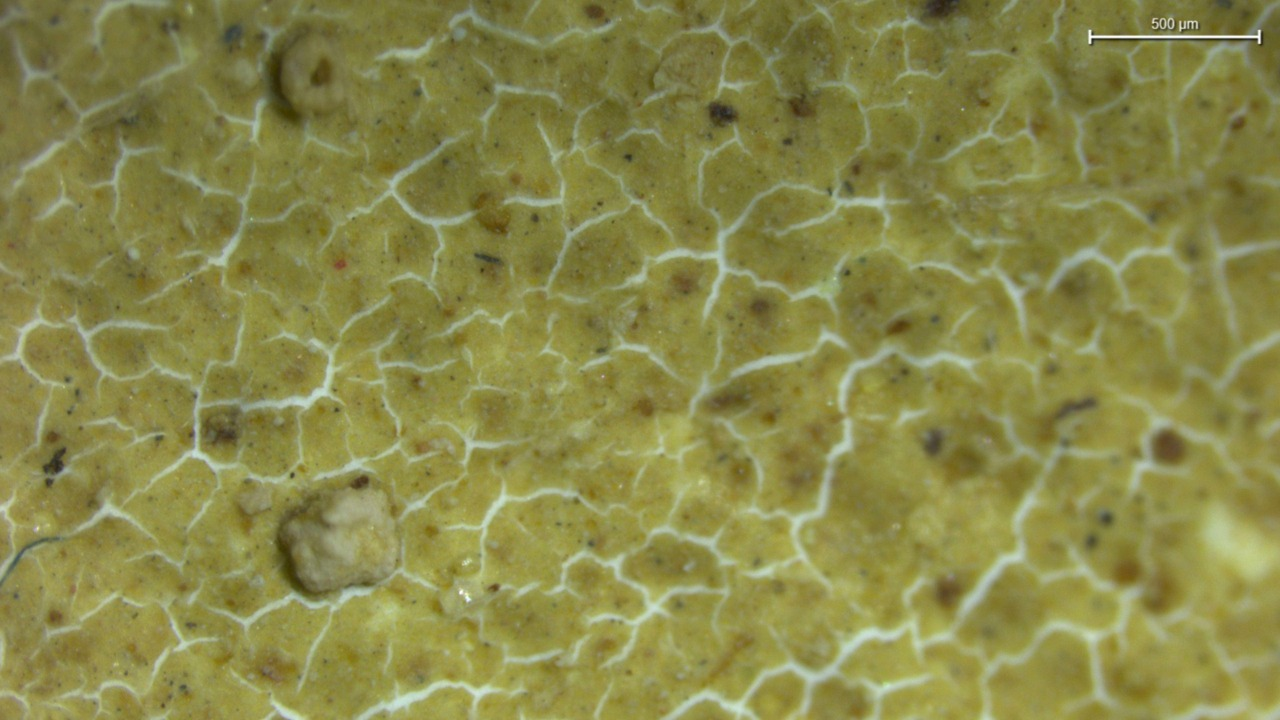microplastic_fragment: (279, 476, 400, 593), (278, 32, 348, 117)
